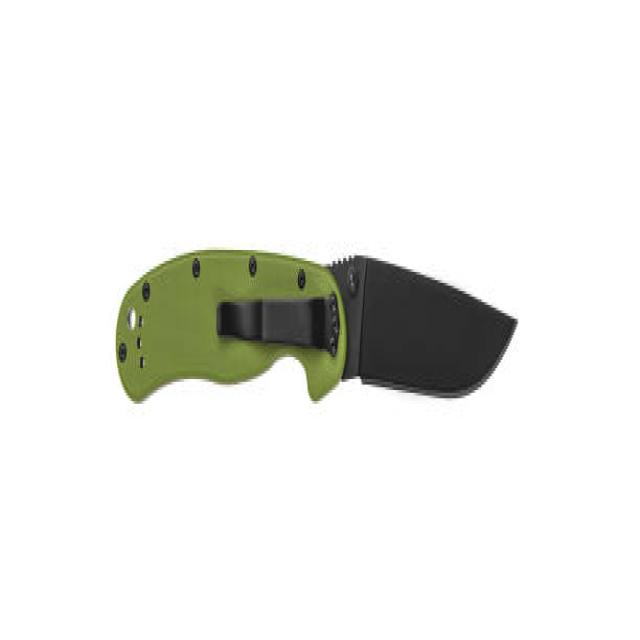knife: (116, 247, 519, 415)
